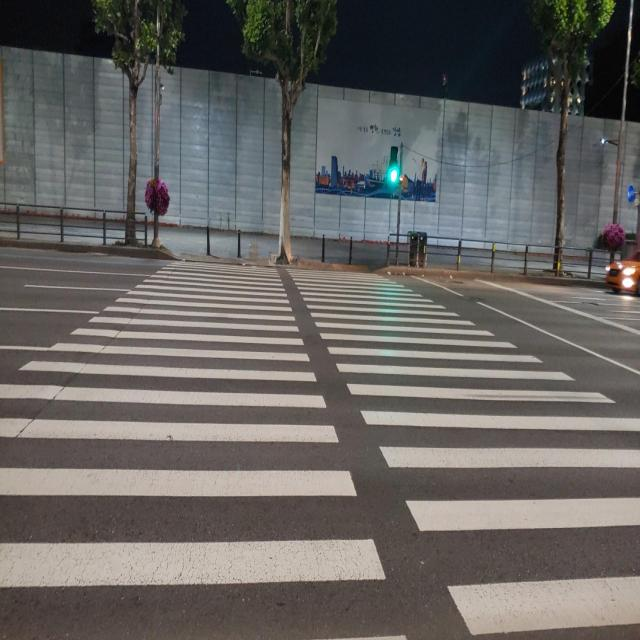초록불: (390, 143, 399, 187)
횡단보도: (0, 259, 640, 640)
